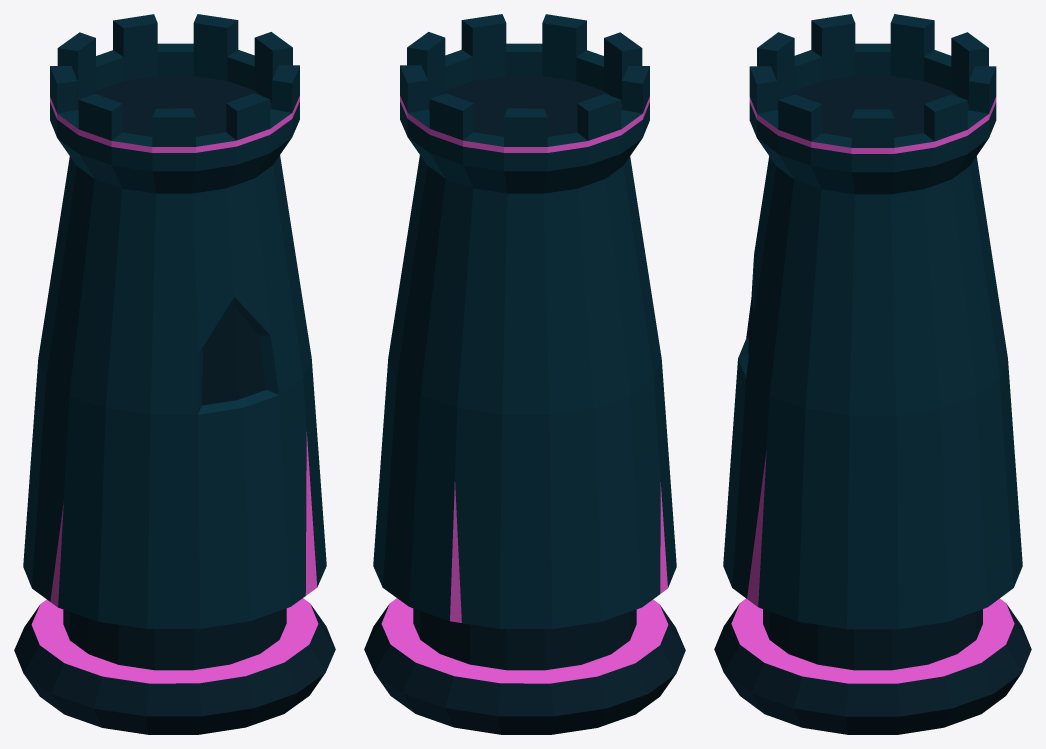
Rendered from tower3.fbx.
3 renders of one model, left to right at view 1: azimuth 30°, elevation 25°; view 2: azimuth 150°, elevation 25°; view 3: azimuth 270°, elevation 25°, orthographic.
Visible parts, largest first — view 1: Cylinder; view 2: Cylinder; view 3: Cylinder.
Boxes of the visible parts, x1,y1,x2,y2 form: Cylinder: [14, 14, 335, 734]; Cylinder: [364, 14, 685, 734]; Cylinder: [714, 14, 1031, 734].
Bounding box in the file's own units: 561 × 1186 × 561.
